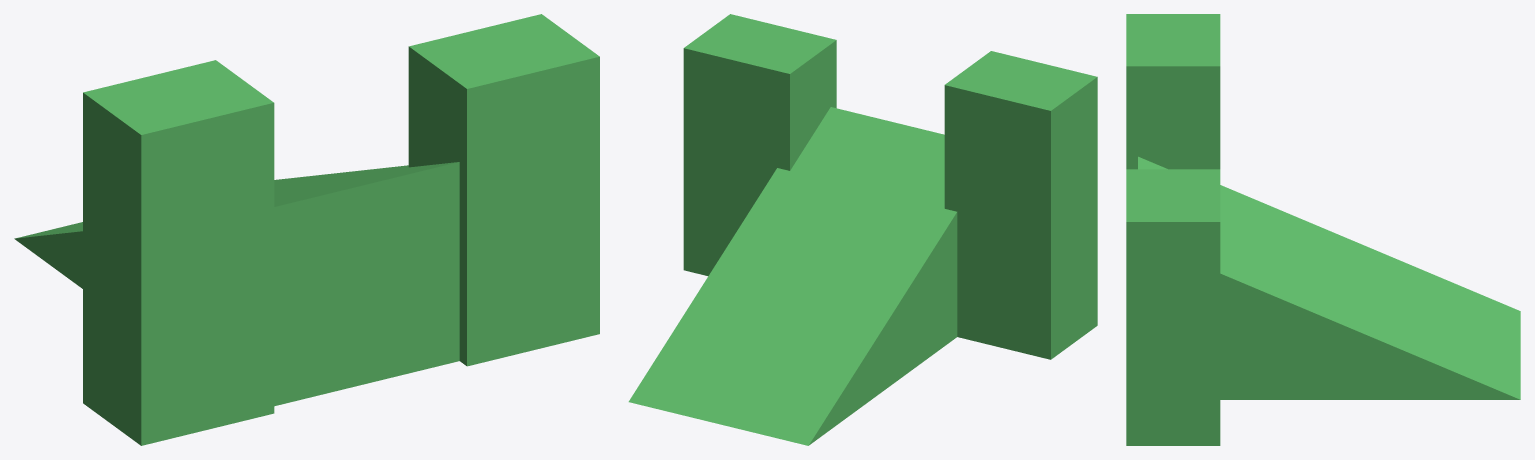
The model's file is fortress_breach_ramp_collision.glb.
3 renders of one model, left to right at view 1: azimuth 30°, elevation 25°; view 2: azimuth 150°, elevation 25°; view 3: azimuth 270°, elevation 25°, orthographic. The views are drawn at different scales.
Parts seen in each view (by area): view 1: fortress_breach_ramp-col-left, fortress_breach_ramp-col-right, fortress_breach_ramp-col-ramp; view 2: fortress_breach_ramp-col-ramp, fortress_breach_ramp-col-left, fortress_breach_ramp-col-right; view 3: fortress_breach_ramp-col-ramp, fortress_breach_ramp-col-right, fortress_breach_ramp-col-left.
Part boxes in pixels (x1,y1,x2,y2): fortress_breach_ramp-col-left: [83, 60, 274, 445]; fortress_breach_ramp-col-right: [408, 14, 599, 366]; fortress_breach_ramp-col-ramp: [14, 162, 459, 406]; fortress_breach_ramp-col-ramp: [628, 107, 957, 445]; fortress_breach_ramp-col-left: [944, 51, 1097, 359]; fortress_breach_ramp-col-right: [683, 14, 836, 275]; fortress_breach_ramp-col-ramp: [1138, 156, 1520, 399]; fortress_breach_ramp-col-right: [1126, 169, 1220, 445]; fortress_breach_ramp-col-left: [1126, 14, 1220, 169].
Bounding box in the file's own units: 7.18 × 4.65 × 6.62.
